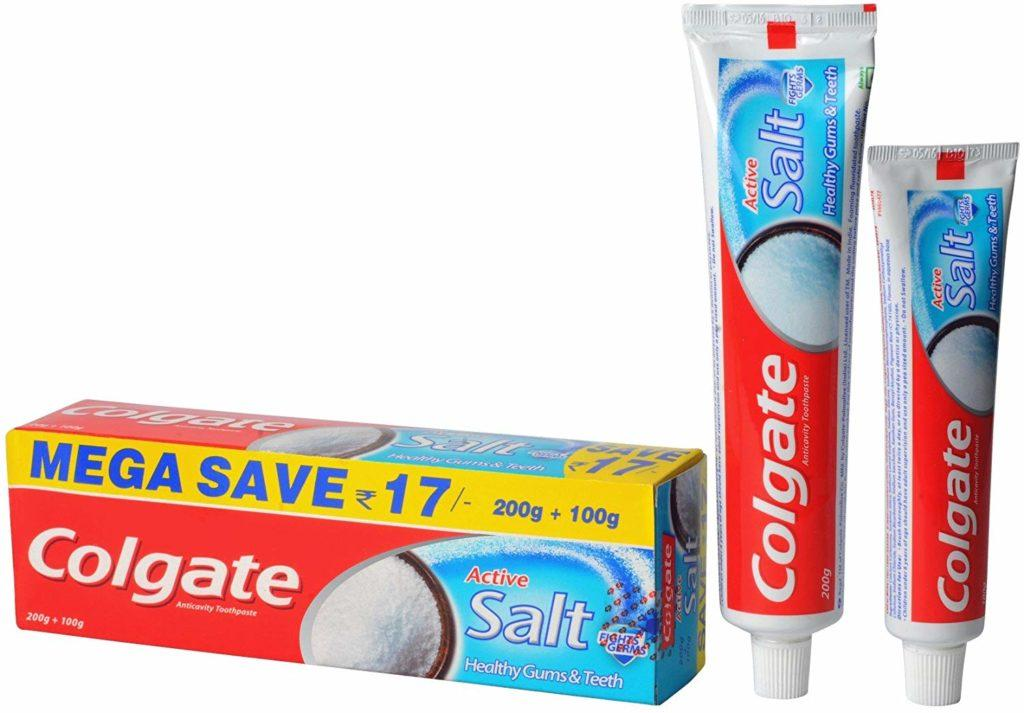toothpaste: (0, 388, 735, 695), (669, 1, 880, 702), (863, 118, 999, 711)
